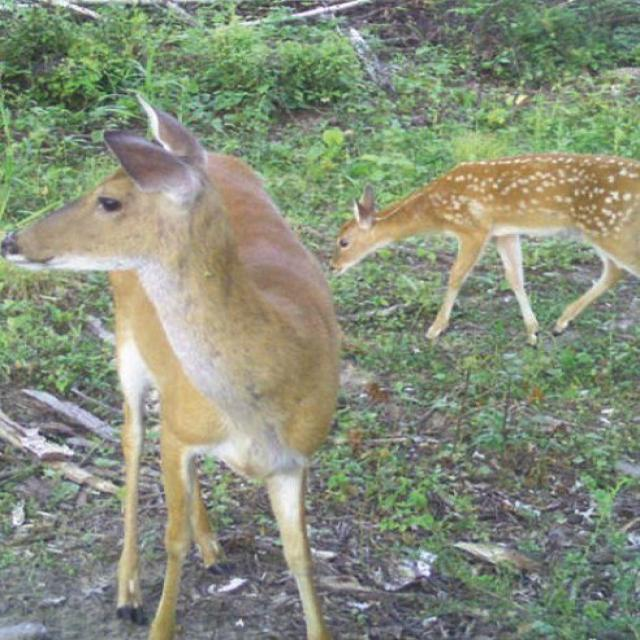not_pig: (0, 89, 343, 638), (329, 150, 639, 348)
